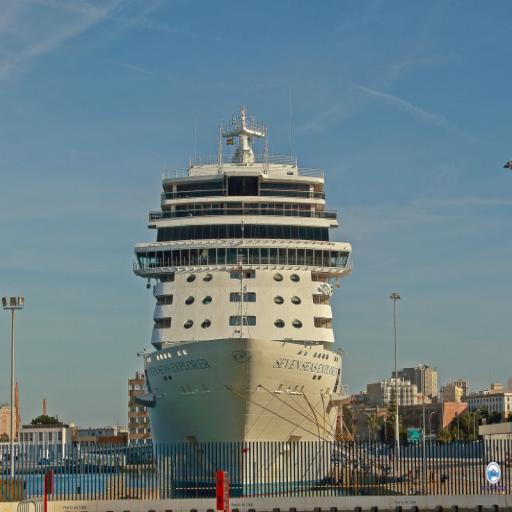cruises: (126, 113, 360, 480)
